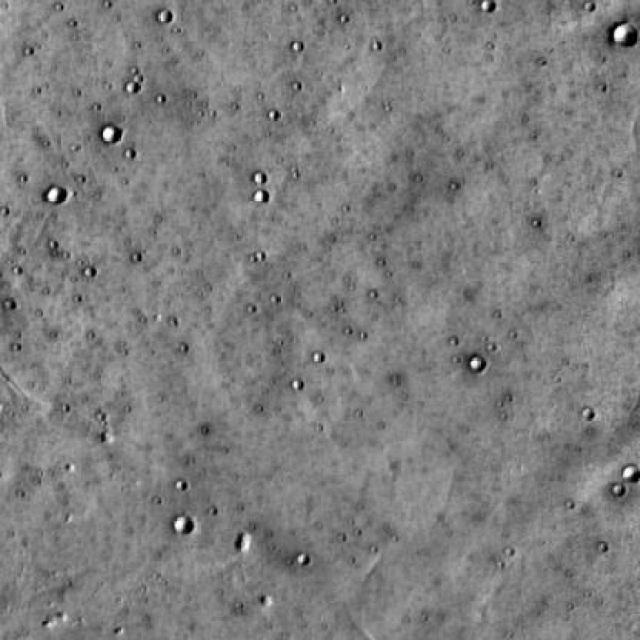crater: (612, 23, 640, 48), (43, 188, 66, 208), (100, 126, 122, 145), (171, 515, 191, 534), (467, 354, 485, 372), (623, 467, 640, 482)
